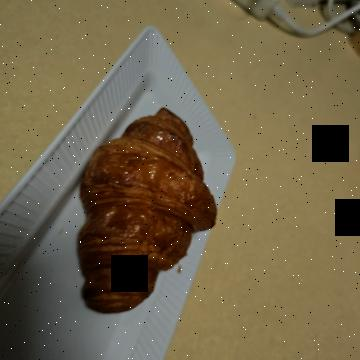croissant: (101, 138, 333, 301)
